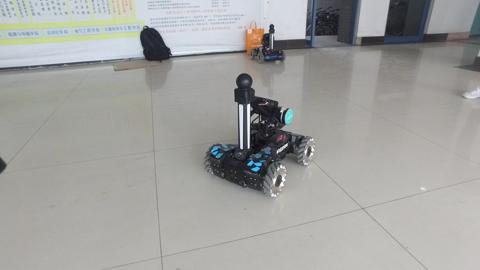bag: (138, 23, 174, 65), (243, 19, 266, 52)
chariot: (202, 71, 316, 198), (248, 23, 286, 65)
